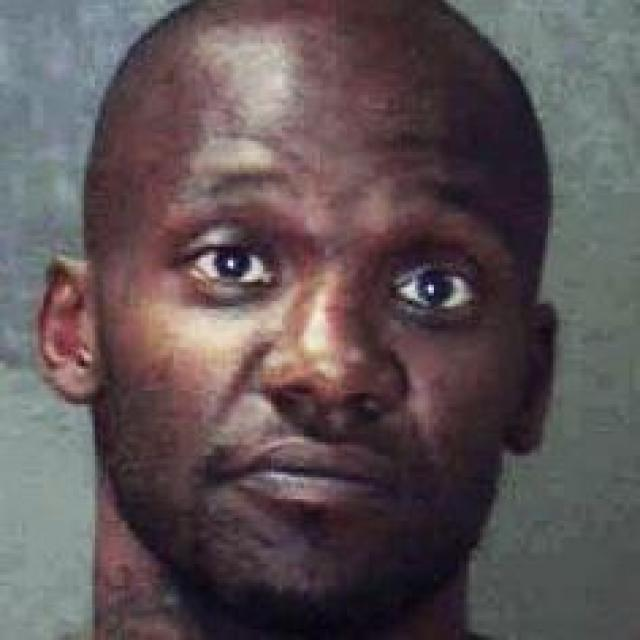surprised: (141, 84, 540, 613)
